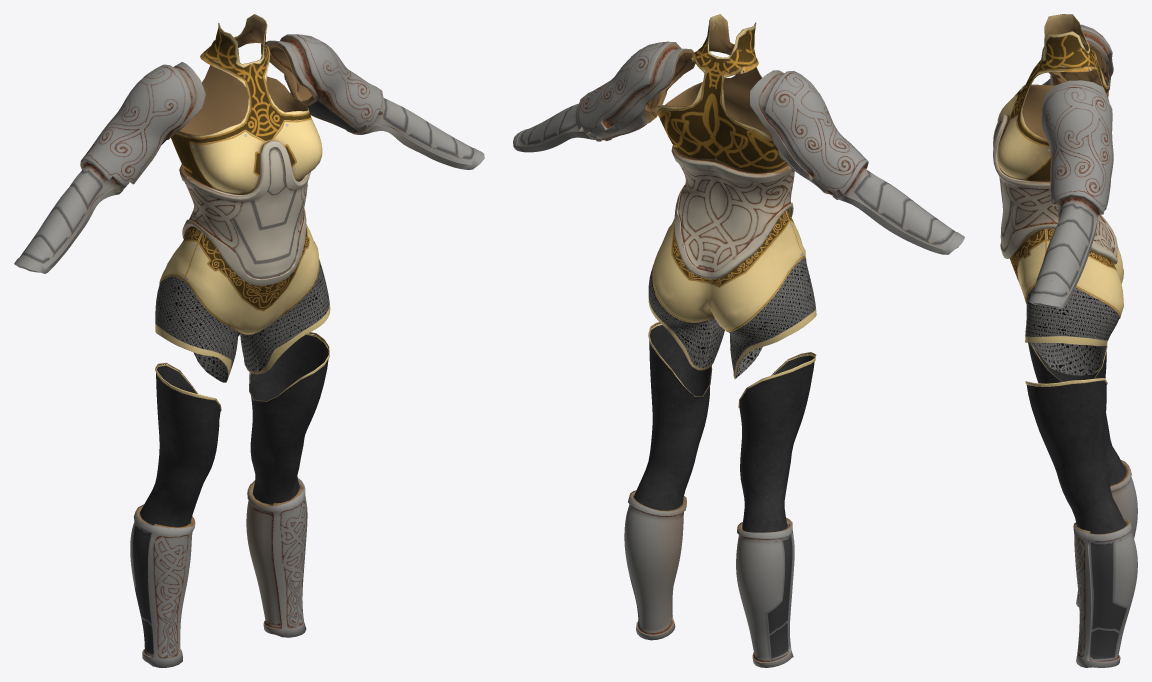
File: female_armour.glb
The picture shows the model from 3 angles, left to right: view 1: azimuth 30°, elevation 25°; view 2: azimuth 150°, elevation 25°; view 3: azimuth 270°, elevation 25°; orthographic projection. The views are drawn at different scales.
Parts seen in each view (by area): view 1: Armor, Arm Armor, sock, leg armor, cuirass; view 2: Armor, Arm Armor, sock, leg armor, cuirass; view 3: Armor, Arm Armor, sock, leg armor, cuirass.
Part boxes in pixels (x1,y1,x2,y2): Armor: [155, 14, 330, 382]; Arm Armor: [14, 34, 484, 273]; sock: [140, 332, 329, 527]; leg armor: [130, 478, 307, 667]; cuirass: [179, 140, 310, 285]; Armor: [648, 14, 816, 378]; Arm Armor: [513, 41, 964, 254]; sock: [634, 322, 816, 532]; leg armor: [624, 490, 794, 667]; cuirass: [671, 145, 794, 279]; Armor: [997, 14, 1123, 375]; Arm Armor: [1029, 24, 1113, 309]; sock: [1025, 325, 1125, 533]; leg armor: [1073, 460, 1137, 667]; cuirass: [993, 114, 1117, 264].
Size of the model in its own units: 1.77 by 2.32 by 0.4978.
5 materials, 5 textured.
